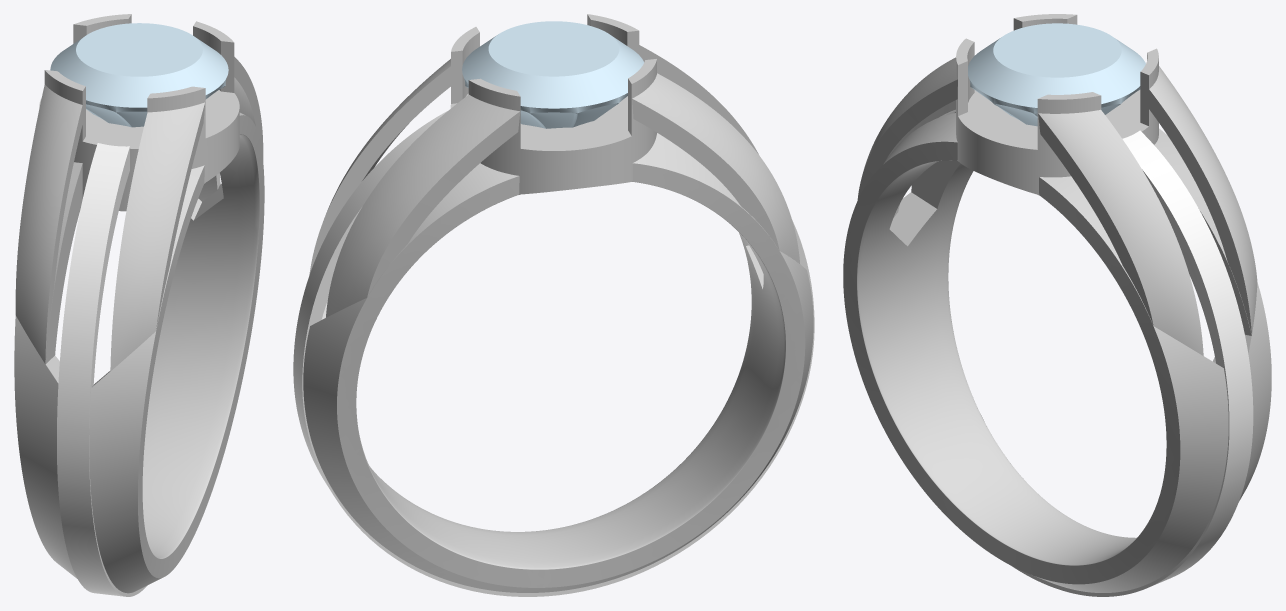
3 renders of one model, left to right at view 1: azimuth 30°, elevation 25°; view 2: azimuth 150°, elevation 25°; view 3: azimuth 270°, elevation 25°, orthographic. The views are drawn at different scales.
Visible parts, largest first — view 1: RIng 033.3dm; view 2: RIng 033.3dm; view 3: RIng 033.3dm.
Part boxes in pixels (bbox=[...]): RIng 033.3dm: bbox=[14, 14, 264, 596]; RIng 033.3dm: bbox=[293, 14, 814, 596]; RIng 033.3dm: bbox=[843, 14, 1271, 596].
Size of the model in its own units: 2.04 by 2.77 by 2.04.
